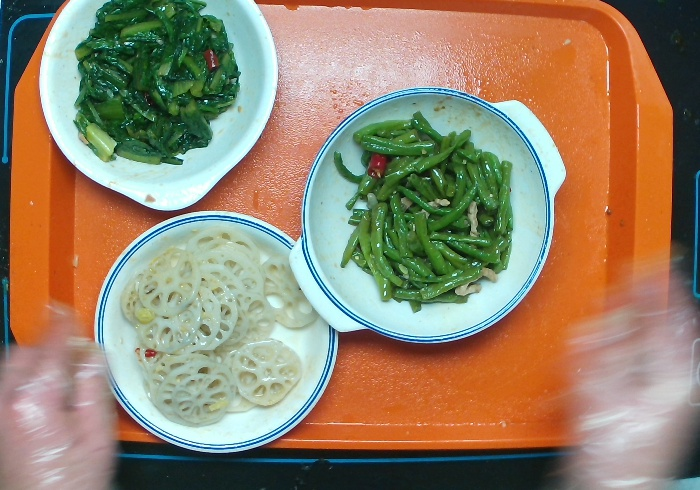HZYJPL-Dai_Er_Bai_Yuan_Wan: (25, 1, 286, 221)
HZYJPL-Lan_Bian_Dai_Er_Wan: (279, 79, 574, 352)
HZYJPL-Lan_Bian_Yuan_Die: (74, 203, 348, 468)
